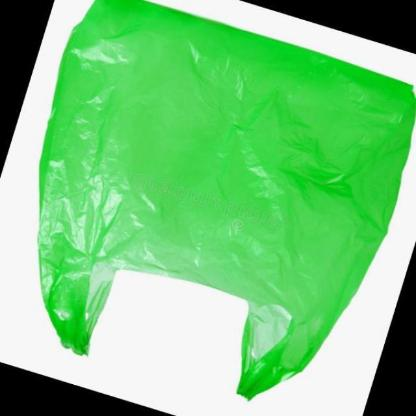Plastic Bag: (37, 0, 415, 402)
